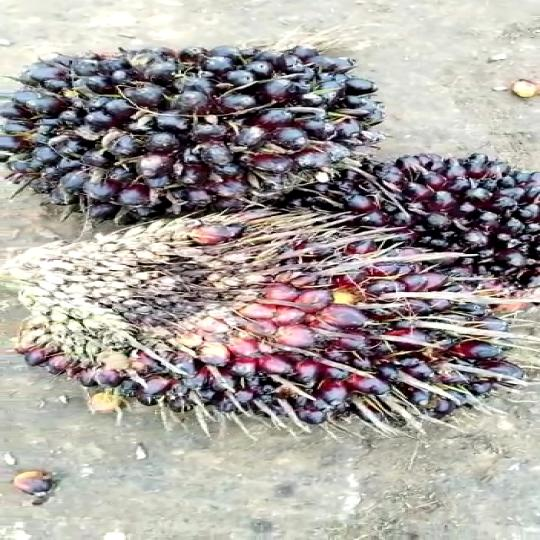kurang masak: (0, 228, 519, 435), (0, 26, 389, 214), (313, 151, 540, 261)
